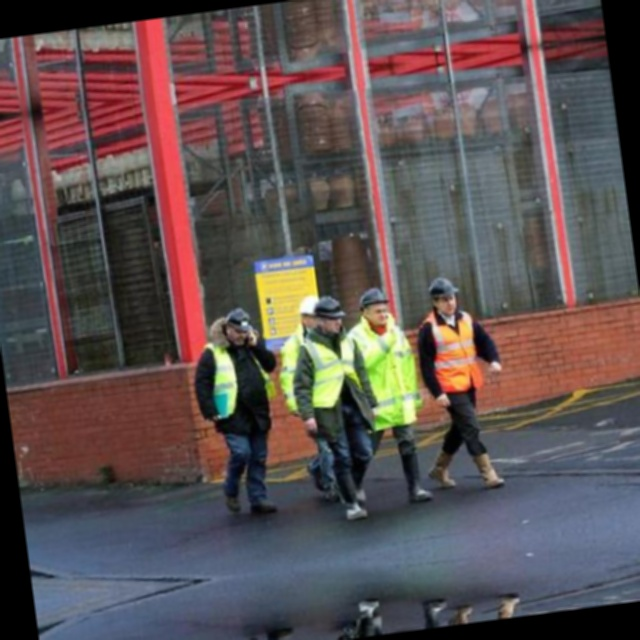helmet: (362, 292, 391, 332), (429, 289, 458, 329), (316, 295, 344, 334), (224, 297, 250, 332), (298, 291, 320, 329)
person: (411, 291, 494, 509), (285, 295, 360, 520), (189, 299, 269, 503), (355, 292, 411, 511), (271, 288, 315, 429)
